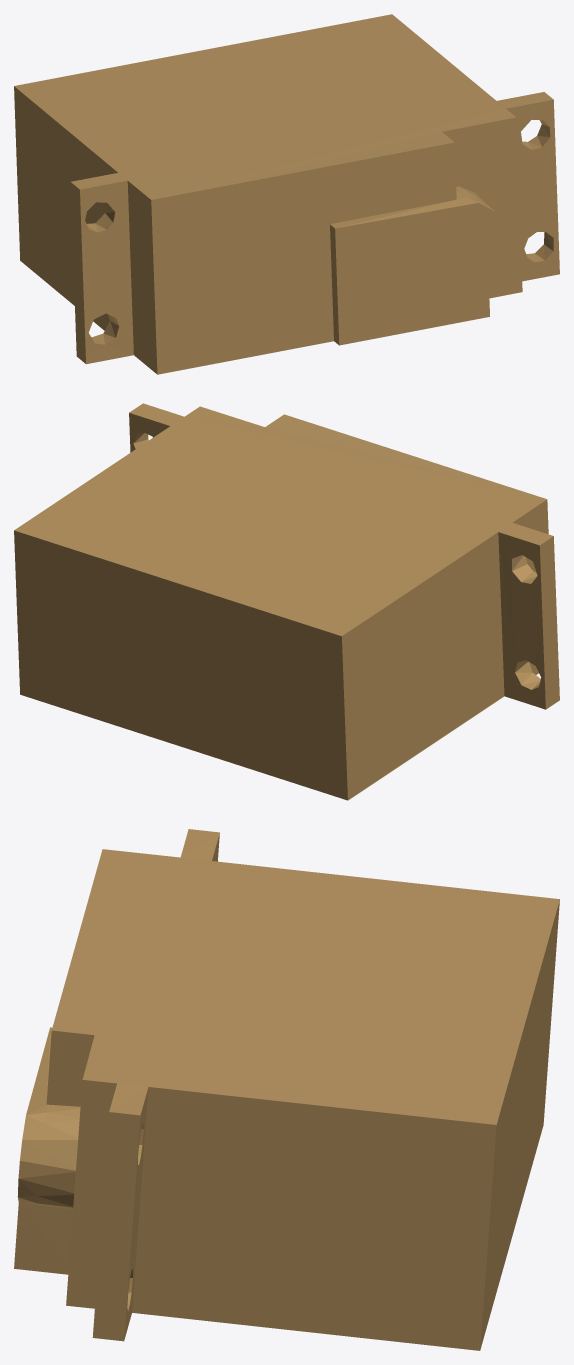
File: torso_z_link_visual_10.obj.light.glb
3 renders of one model, top to bottom at view 1: azimuth 30°, elevation 25°; view 2: azimuth 150°, elevation 25°; view 3: azimuth 270°, elevation 25°, orthographic. The views are drawn at different scales.
Bounding box in the file's own units: 0.7744 × 0.3198 × 0.6177.
